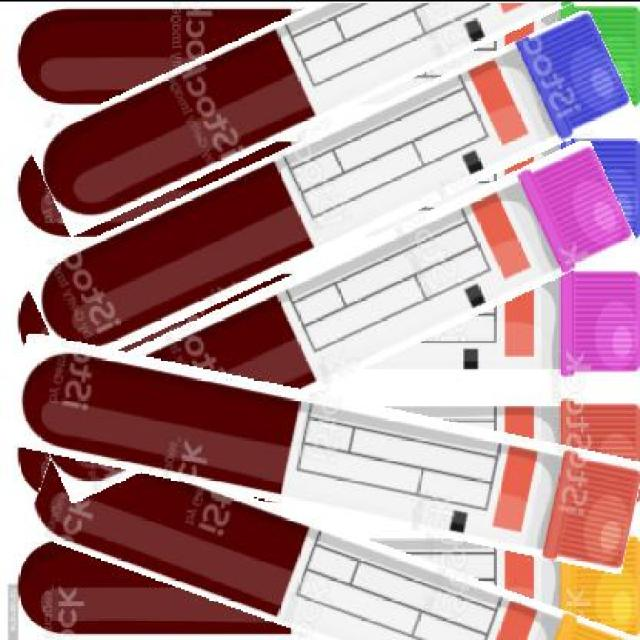Experimental-tube: (21, 198, 637, 438), (18, 70, 637, 308), (7, 360, 638, 540), (21, 1, 637, 174), (23, 476, 640, 638)
